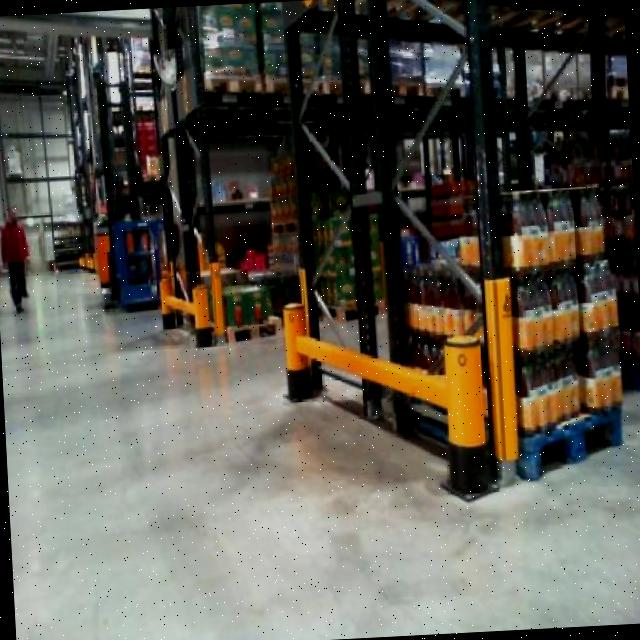pallet: (220, 307, 285, 356), (200, 68, 266, 104)
